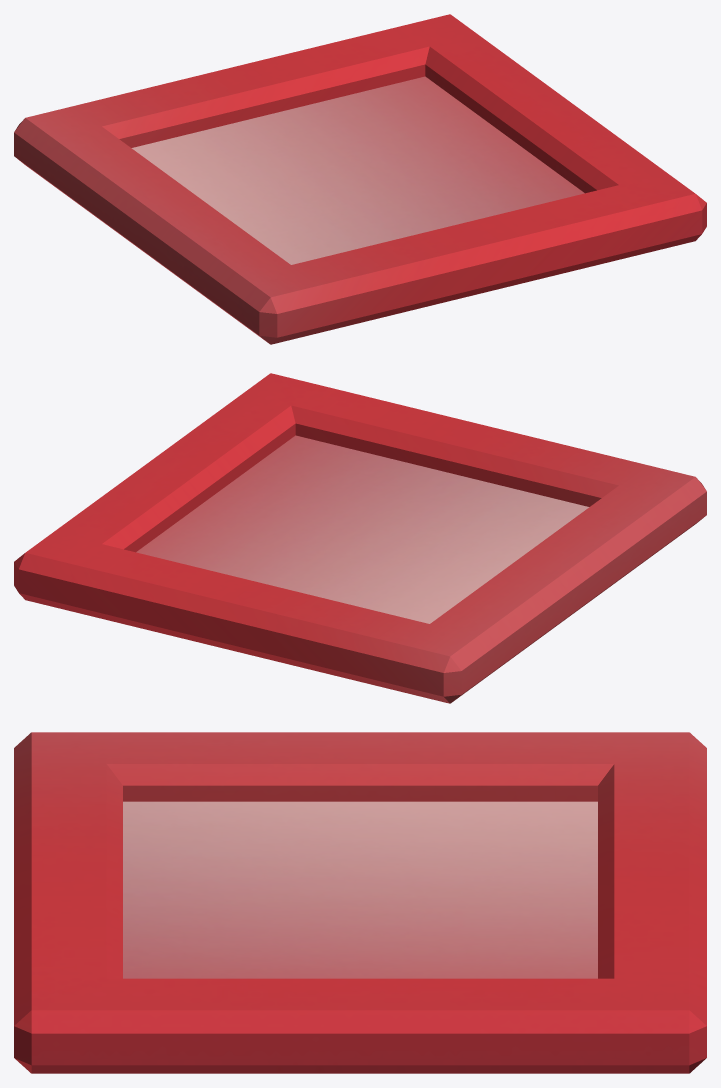
File: lid.fbx
3 renders of one model, top to bottom at view 1: azimuth 30°, elevation 25°; view 2: azimuth 150°, elevation 25°; view 3: azimuth 270°, elevation 25°, orthographic. The views are drawn at different scales.
Visible parts, largest first — view 1: lid1; view 2: lid1; view 3: lid1.
Part boxes in pixels (x1,y1,x2,y2): lid1: (14, 14, 706, 344); lid1: (14, 373, 706, 703); lid1: (14, 732, 706, 1073).
Size of the model in its own units: 1.61 by 0.1631 by 1.61.
